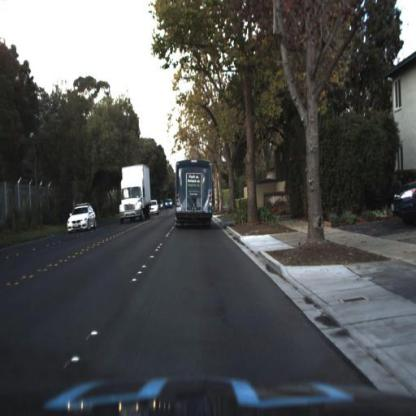car: (116, 163, 153, 223), (392, 176, 416, 228), (63, 199, 96, 235), (147, 198, 163, 218)
truck: (175, 158, 215, 231), (118, 161, 152, 223)
